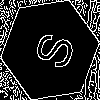S: (25, 25, 77, 73)
